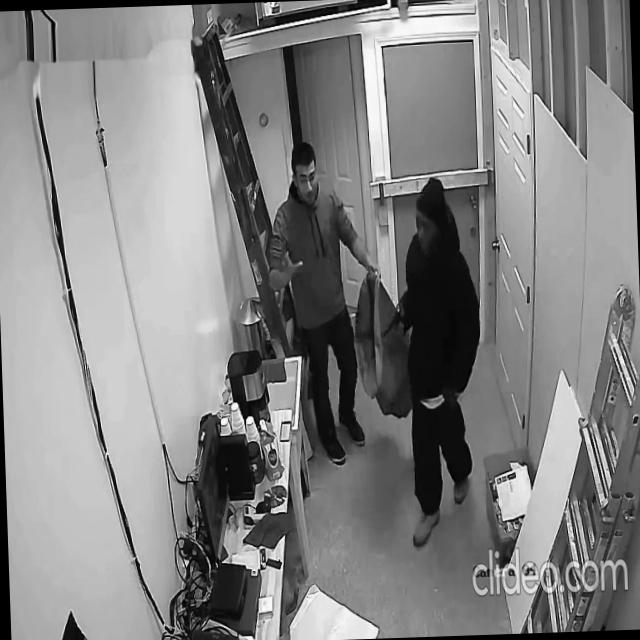gun: (382, 303, 402, 338)
person: (262, 138, 388, 468), (388, 172, 489, 550)
person with a gun: (378, 172, 490, 552)
